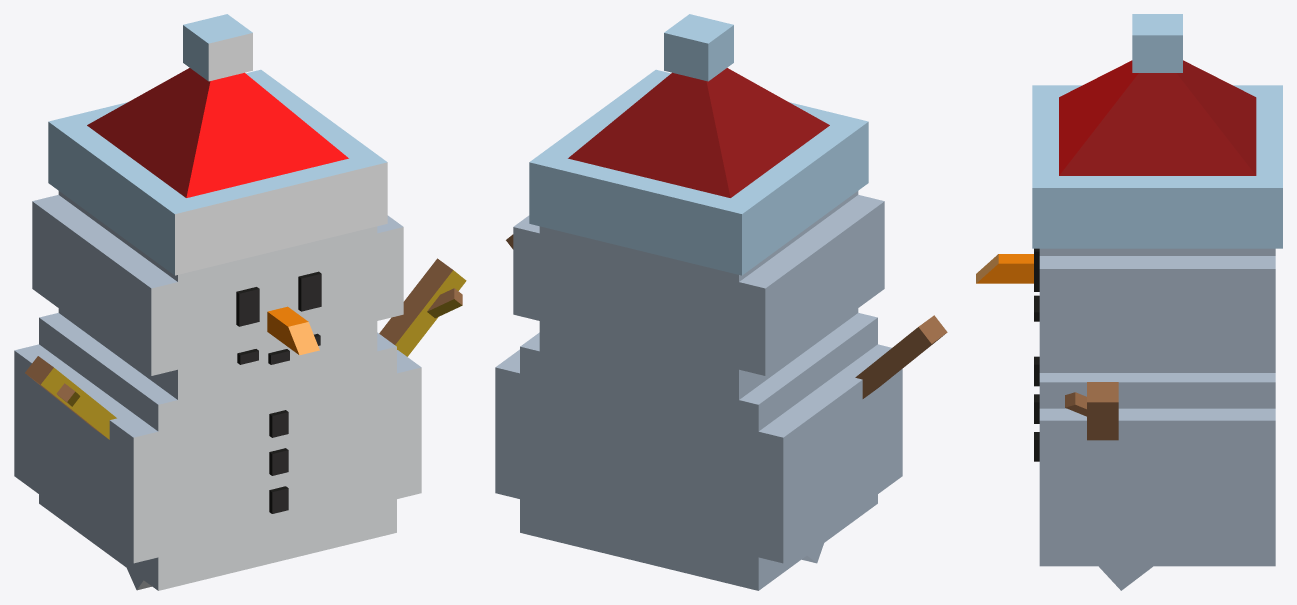
3 views of the same model, side by side, from view 1: azimuth 30°, elevation 25°; view 2: azimuth 150°, elevation 25°; view 3: azimuth 270°, elevation 25° (orthographic).
Parts seen in each view (by area): view 1: Ch_174_Head, Ch_174, Ch_174_Hand_R, Ch_174_Hand_L, Ch_174_Eye_01; view 2: Ch_174_Head, Ch_174, Ch_174_Hand_L; view 3: Ch_174_Head, Ch_174, Ch_174_Hand_R, Ch_174_Leg_R.
Boxes of the visible parts, left/top/right/bottom form: Ch_174_Head: left=32, top=14, right=403, bottom=399; Ch_174: left=14, top=313, right=421, bottom=590; Ch_174_Hand_R: left=379, top=258, right=466, bottom=356; Ch_174_Hand_L: left=25, top=356, right=116, bottom=439; Ch_174_Eye_01: left=236, top=271, right=321, bottom=326; Ch_174_Head: left=513, top=14, right=884, bottom=399; Ch_174: left=495, top=313, right=902, bottom=590; Ch_174_Hand_L: left=855, top=315, right=947, bottom=398; Ch_174_Head: left=976, top=14, right=1282, bottom=372; Ch_174: left=1034, top=356, right=1275, bottom=566; Ch_174_Hand_R: left=1065, top=382, right=1118, bottom=440; Ch_174_Leg_R: left=1099, top=566, right=1152, bottom=590.
Size of the model in its own units: 8.96 by 10.52 by 5.65.
